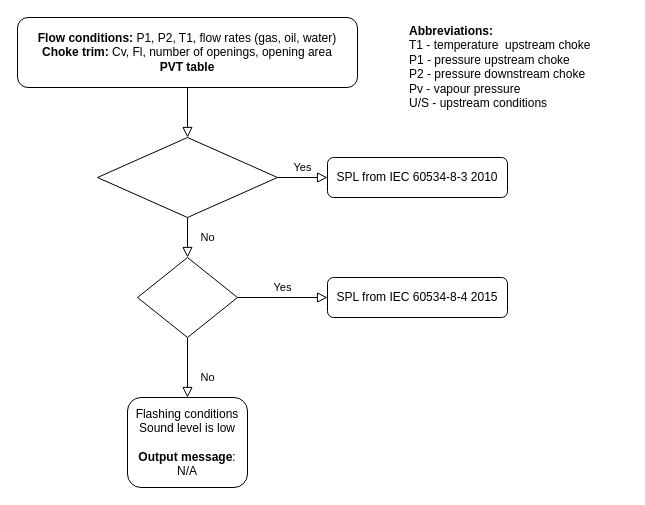
This 645x505 diagram has some shape labels left out. The centre of each missing label's shape, as x and y in pixels:
liquid mass fraction at U/S < 1 ?: point (187, 177)
P2 > Pv ?: point (187, 297)
